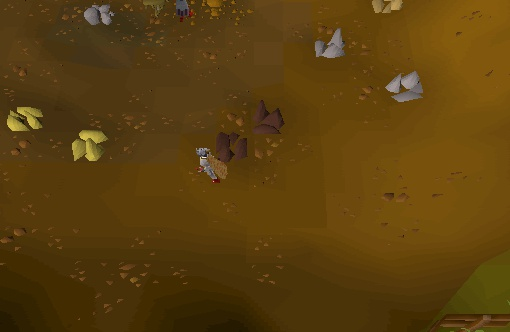gold: (63, 123, 120, 172), (1, 94, 57, 143)
iron: (206, 126, 251, 169), (243, 95, 288, 138)
tin: (381, 65, 432, 109), (305, 23, 356, 67)
